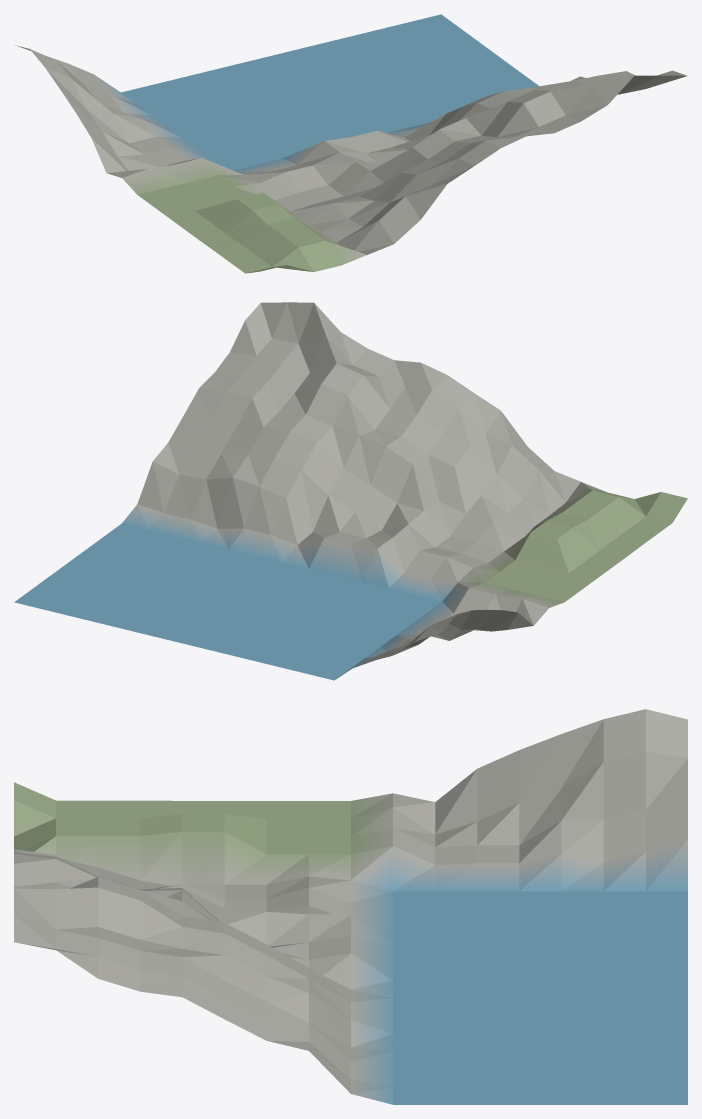
3 renders of one model, top to bottom at view 1: azimuth 30°, elevation 25°; view 2: azimuth 150°, elevation 25°; view 3: azimuth 270°, elevation 25°, orthographic. The views are drawn at different scales.
Size of the model in its own units: 32 by 9.46 by 32.
